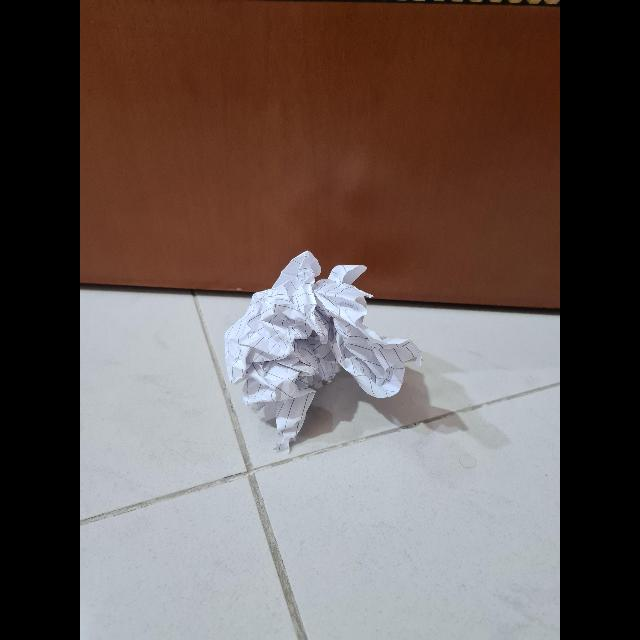scrap_paper: (230, 254, 402, 442)
